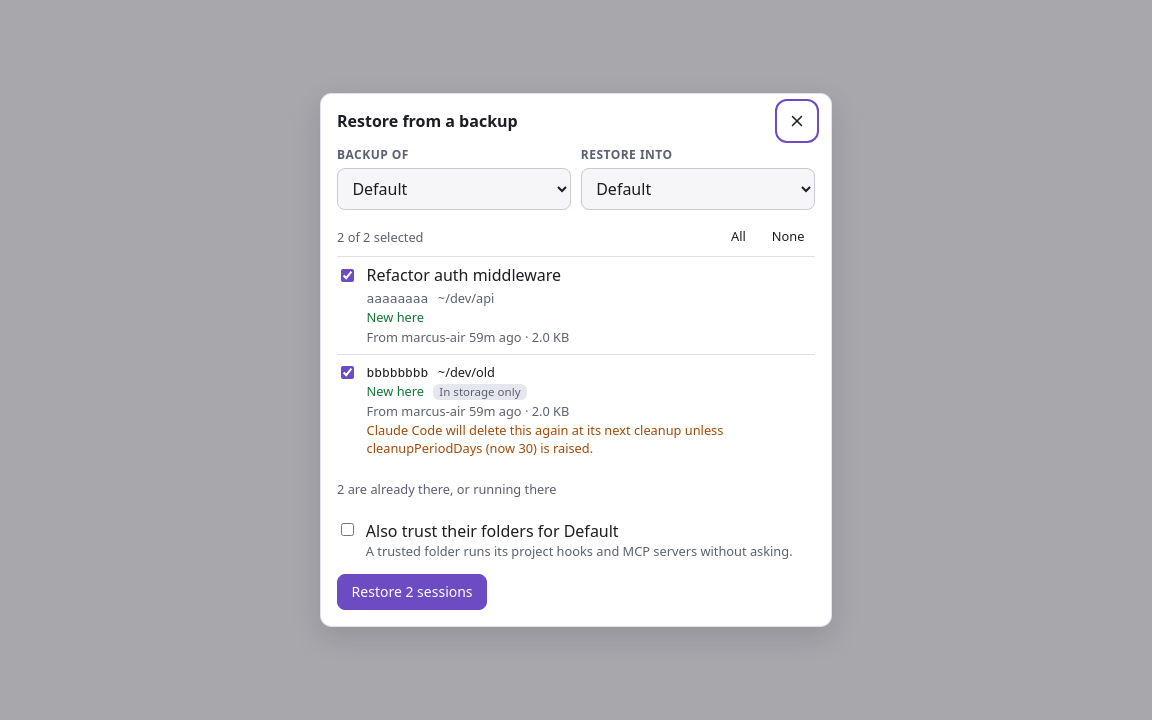
Scenario: RestoreSheetComponent › restores into another account, with the trust only when ticked
Select "Work" in the dropdown labelled "Restore into": [698, 188] box [581, 168, 815, 210]
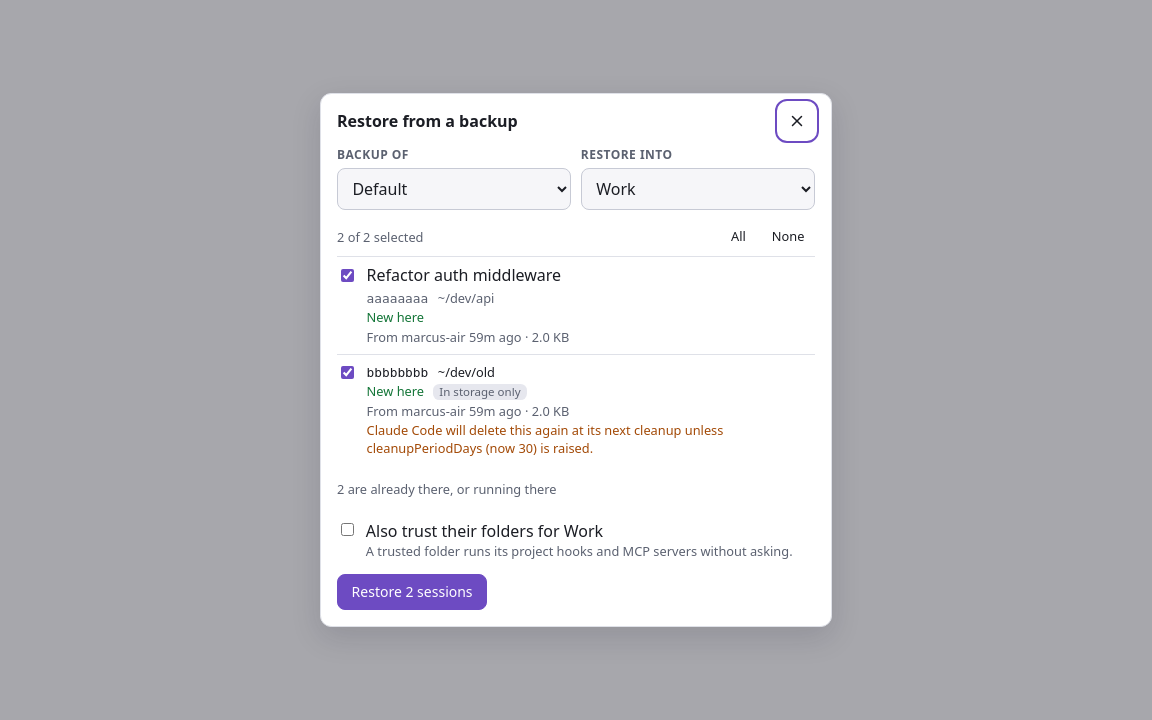
Click the checkbox named "Session bbbbbbbb: New here": [348, 372] box [341, 366, 354, 379]
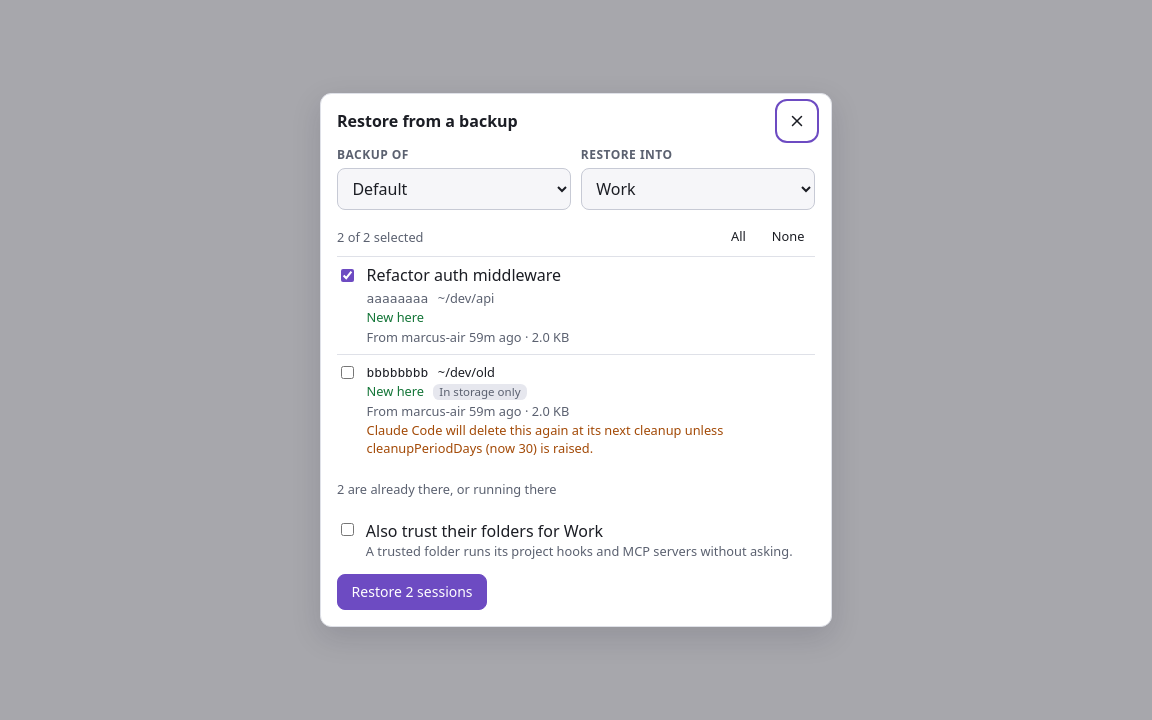
Click the 3rd checkbox: [348, 530] box [341, 523, 354, 536]
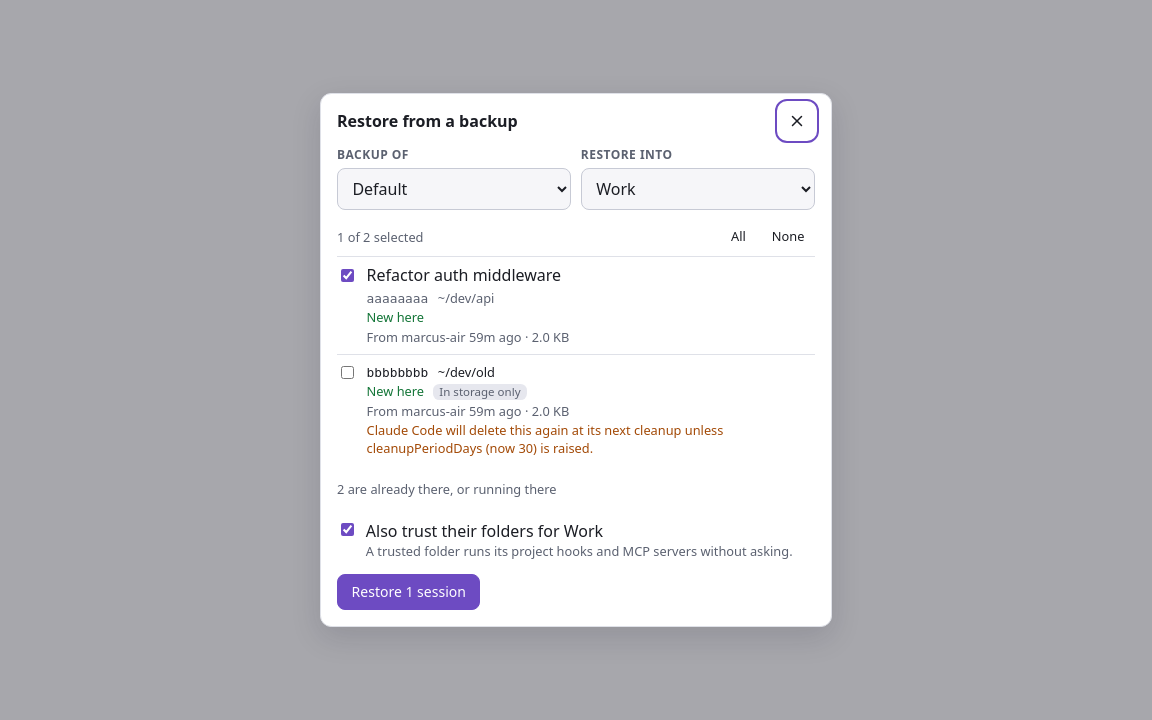
Click the button "Restore 1 session": [409, 592] box [337, 574, 480, 610]
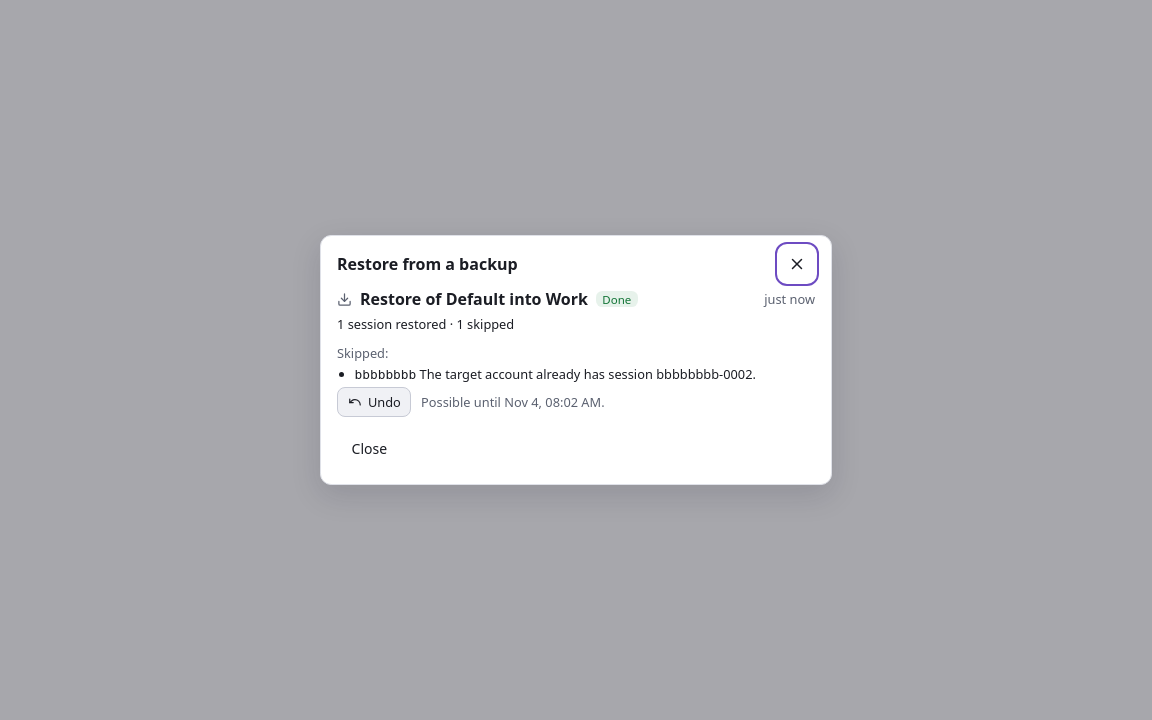
Now the text with class "jtitle" reads "Restore of Default into Work", box [360, 288, 588, 310]
